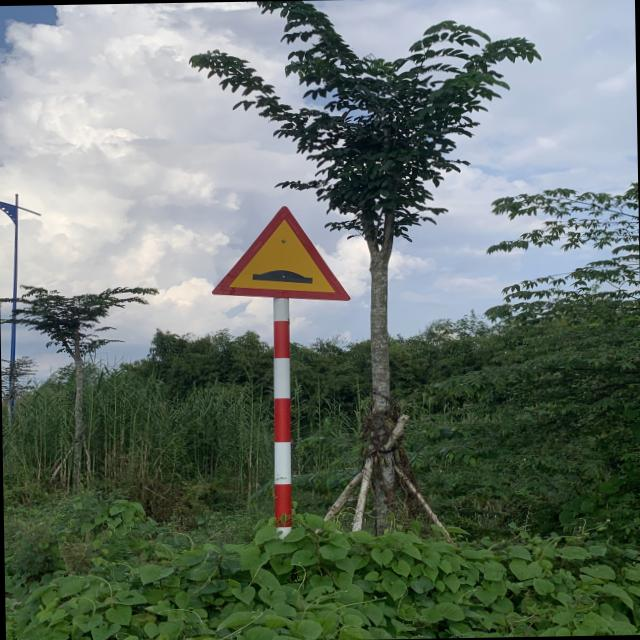Duong_Cong_Ben_Phai: (207, 202, 356, 303)
